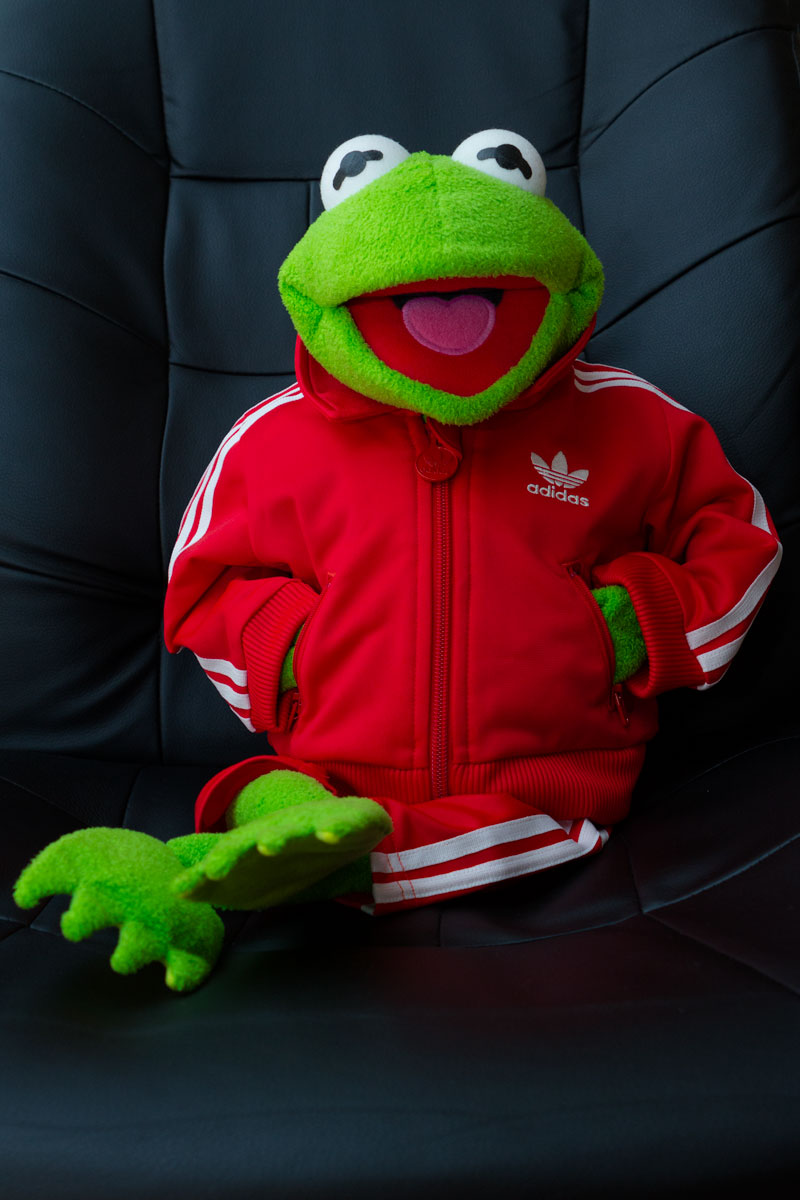kermit: (278, 119, 628, 429)
